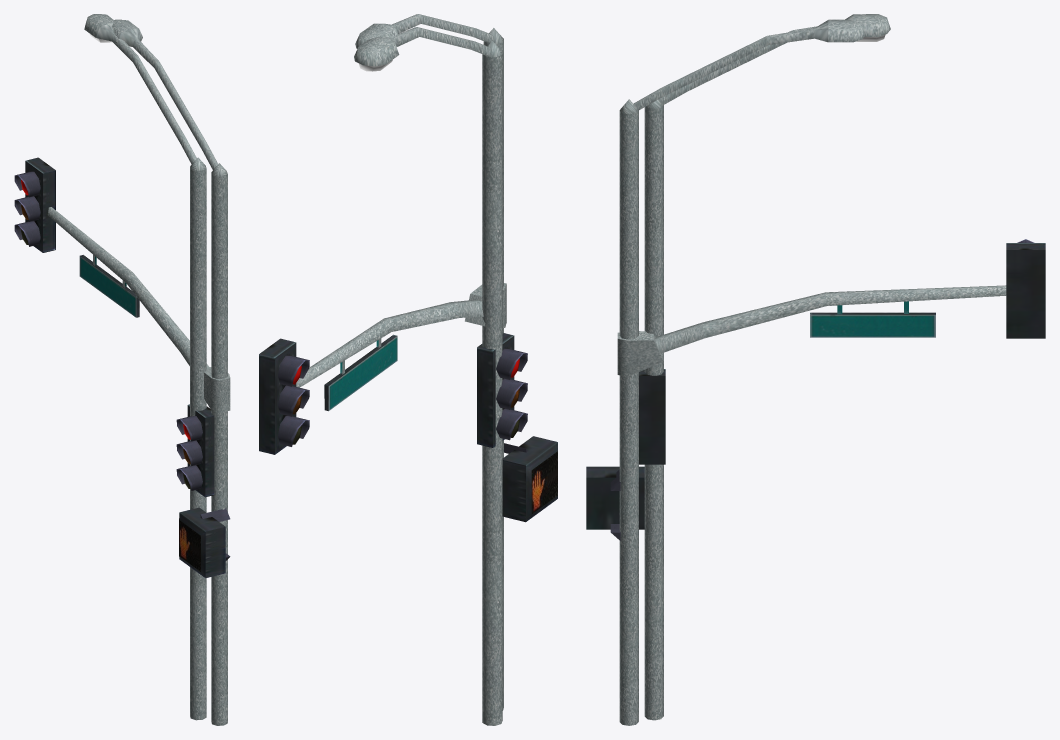
The model's file is props.fbx.
3 renders of one model, left to right at view 1: azimuth 30°, elevation 25°; view 2: azimuth 150°, elevation 25°; view 3: azimuth 270°, elevation 25°, orthographic. The views are drawn at different scales.
Parts seen in each view (by area): view 1: redLight, polySurface836.003; view 2: redLight, polySurface836.003; view 3: redLight, polySurface836.003.
Part boxes in pixels (x1,y1,x2,y2): redLight: (14, 19, 230, 725); polySurface836.003: (84, 14, 206, 720); redLight: (259, 14, 557, 710); polySurface836.003: (354, 27, 502, 725); redLight: (586, 19, 1045, 725); polySurface836.003: (644, 14, 890, 720).
Size of the model in its own units: 0.9024 by 11.09 by 6.6.
Materials: 4 (1 with a texture image).
